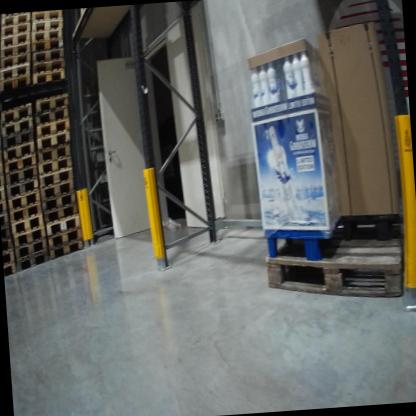pallet: (260, 230, 413, 301), (12, 246, 52, 277), (10, 222, 48, 249), (6, 210, 47, 235), (4, 175, 42, 201), (8, 185, 46, 211), (42, 216, 82, 239), (44, 203, 82, 227), (3, 163, 41, 187), (12, 233, 50, 257), (12, 199, 46, 225), (32, 107, 72, 129), (34, 116, 72, 139), (3, 151, 38, 175), (0, 103, 33, 128), (47, 241, 88, 261), (38, 156, 76, 177), (0, 114, 38, 135), (1, 125, 37, 147), (1, 140, 38, 161), (38, 171, 75, 191), (38, 145, 73, 166), (35, 135, 73, 154), (48, 231, 84, 251), (42, 194, 78, 213), (40, 184, 77, 202), (31, 69, 69, 86), (0, 30, 32, 50), (0, 54, 34, 72), (31, 96, 71, 111), (0, 63, 31, 81), (0, 75, 33, 90), (30, 59, 66, 72), (30, 38, 64, 51), (0, 44, 31, 58), (30, 18, 66, 30), (30, 49, 65, 61), (0, 14, 32, 27), (31, 28, 63, 41), (0, 25, 31, 37), (32, 10, 63, 19), (4, 262, 17, 278), (1, 208, 10, 228), (4, 250, 15, 264), (3, 237, 12, 254), (3, 227, 14, 240), (0, 187, 7, 202), (0, 160, 6, 175), (0, 175, 6, 187), (0, 150, 5, 161), (1, 203, 9, 209), (0, 135, 3, 151), (0, 112, 2, 128)
